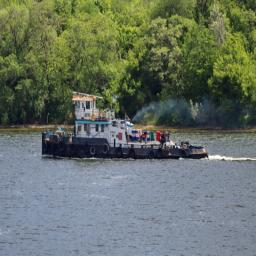tugboat: (41, 91, 211, 167)
